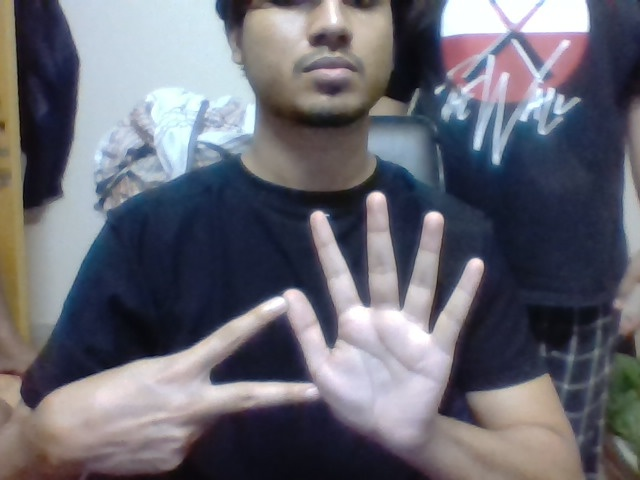N: (202, 291, 284, 419)
